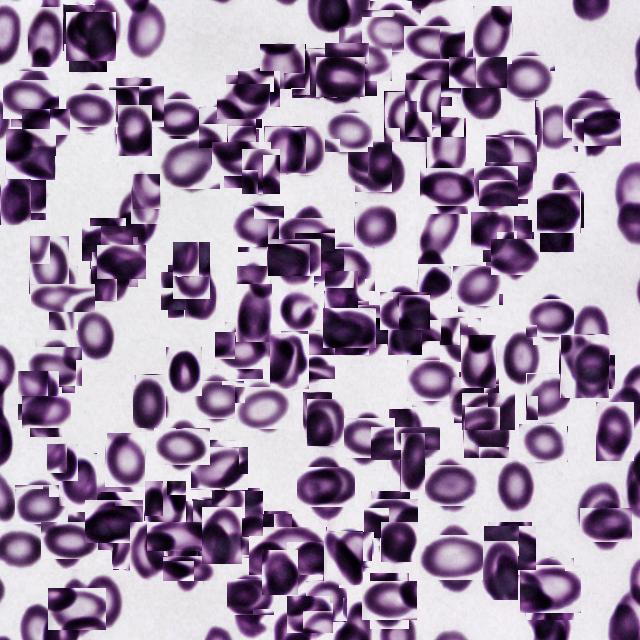red blood cell: (256, 518, 321, 582), (426, 528, 484, 588), (560, 334, 610, 398), (161, 136, 217, 193), (522, 562, 578, 616), (234, 509, 288, 563), (318, 243, 370, 296), (124, 0, 168, 62), (332, 36, 384, 88), (418, 200, 460, 264), (380, 418, 432, 469), (6, 128, 57, 180), (195, 443, 245, 494), (283, 330, 334, 380), (89, 496, 140, 546), (240, 383, 290, 433), (366, 6, 416, 56), (426, 460, 476, 510), (410, 20, 460, 70), (52, 584, 102, 634), (158, 512, 208, 562), (503, 52, 552, 102), (302, 462, 351, 512), (487, 133, 536, 183), (337, 300, 387, 349), (66, 12, 116, 61), (342, 414, 391, 463), (567, 93, 616, 142), (213, 489, 262, 538), (502, 328, 542, 388), (202, 104, 252, 152), (426, 117, 466, 177), (29, 235, 69, 294), (472, 5, 512, 64), (81, 574, 123, 630), (578, 482, 620, 538), (144, 481, 186, 536), (46, 516, 94, 564), (220, 326, 268, 374), (7, 75, 55, 123), (112, 82, 160, 130), (424, 162, 472, 210), (486, 524, 534, 572), (384, 91, 429, 142), (202, 507, 242, 564), (409, 356, 456, 404), (159, 422, 206, 470), (409, 54, 456, 102), (292, 48, 337, 98), (596, 402, 634, 461), (496, 458, 536, 514), (118, 189, 158, 245), (535, 100, 578, 152), (574, 304, 610, 366), (367, 495, 414, 542), (218, 135, 265, 182), (18, 482, 66, 528), (32, 342, 78, 390), (40, 274, 86, 322), (326, 304, 372, 352), (172, 242, 210, 300), (105, 432, 145, 487), (27, 6, 63, 67), (76, 307, 115, 363), (236, 203, 282, 250), (463, 411, 509, 458), (366, 578, 413, 624), (482, 540, 518, 600), (323, 531, 363, 585), (457, 70, 501, 119), (404, 80, 441, 138), (270, 334, 309, 389), (267, 222, 309, 273), (194, 377, 240, 423), (484, 218, 530, 264), (260, 44, 306, 90), (466, 388, 512, 434), (18, 370, 60, 420), (236, 284, 272, 342), (455, 264, 501, 309), (529, 296, 575, 341), (23, 108, 69, 153), (164, 269, 210, 314), (272, 235, 318, 280), (383, 288, 428, 334), (526, 373, 570, 420), (58, 453, 97, 506), (158, 94, 202, 140), (455, 50, 501, 94), (318, 54, 362, 100), (284, 212, 330, 256), (354, 201, 396, 249), (6, 170, 46, 220), (326, 110, 371, 154), (452, 375, 496, 420), (222, 79, 266, 124), (584, 503, 628, 548), (264, 126, 306, 173), (130, 522, 164, 579), (521, 421, 565, 465), (69, 86, 113, 130), (86, 222, 130, 266), (277, 288, 319, 334), (112, 520, 150, 570), (91, 251, 129, 301), (474, 165, 518, 208), (537, 190, 581, 233), (439, 317, 481, 362), (550, 173, 584, 228), (286, 126, 324, 175), (461, 335, 496, 388), (352, 146, 396, 188), (488, 158, 530, 202), (132, 374, 166, 428), (117, 104, 152, 156), (494, 235, 536, 278), (241, 148, 280, 194), (166, 347, 202, 396), (229, 576, 271, 618), (288, 594, 330, 636), (100, 241, 142, 283), (387, 305, 422, 355), (192, 499, 230, 545), (368, 147, 405, 194), (307, 399, 344, 446), (540, 201, 574, 252), (184, 266, 216, 320), (574, 348, 614, 391), (306, 580, 346, 622), (68, 29, 107, 72), (471, 212, 514, 250), (324, 270, 358, 318), (262, 550, 298, 595), (398, 304, 438, 344), (332, 530, 372, 570), (26, 392, 66, 432), (170, 548, 210, 588), (236, 265, 270, 312), (239, 70, 279, 109), (380, 521, 418, 562), (130, 173, 160, 224), (63, 4, 95, 51), (400, 432, 425, 492), (0, 178, 31, 225), (578, 114, 616, 152), (303, 392, 335, 436), (46, 444, 78, 482), (418, 266, 452, 300)
